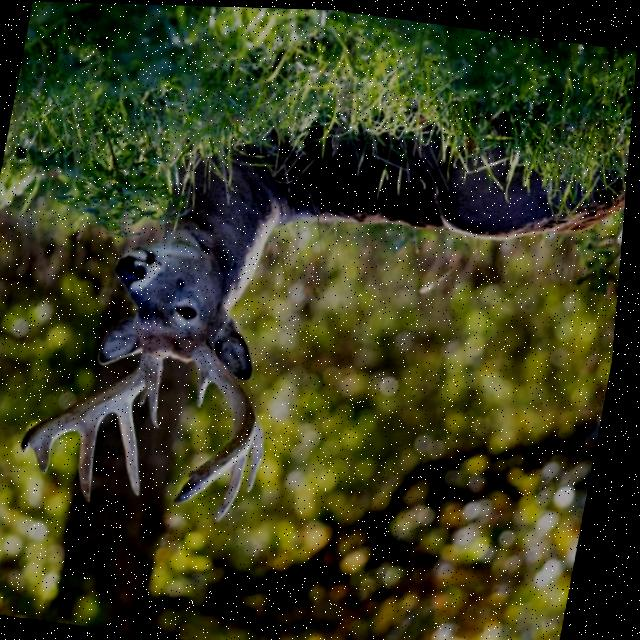L-F: (28, 347, 169, 451)
L-G1: (152, 372, 168, 427)
L-G2: (122, 398, 148, 495)
L-G3: (83, 418, 110, 501)
R-F: (182, 339, 263, 502)
R-G1: (202, 370, 217, 405)
